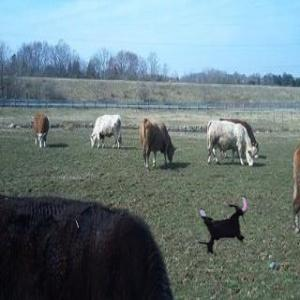drone: (185, 187, 261, 263)
